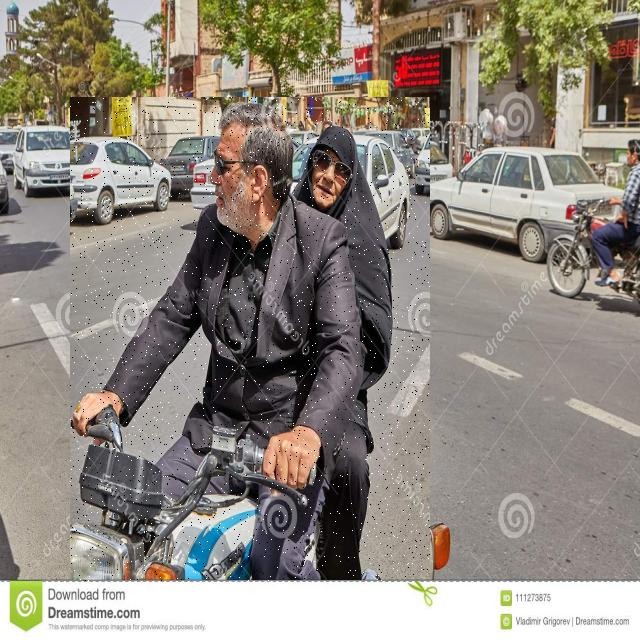With Helmet: (70, 97, 430, 581)
